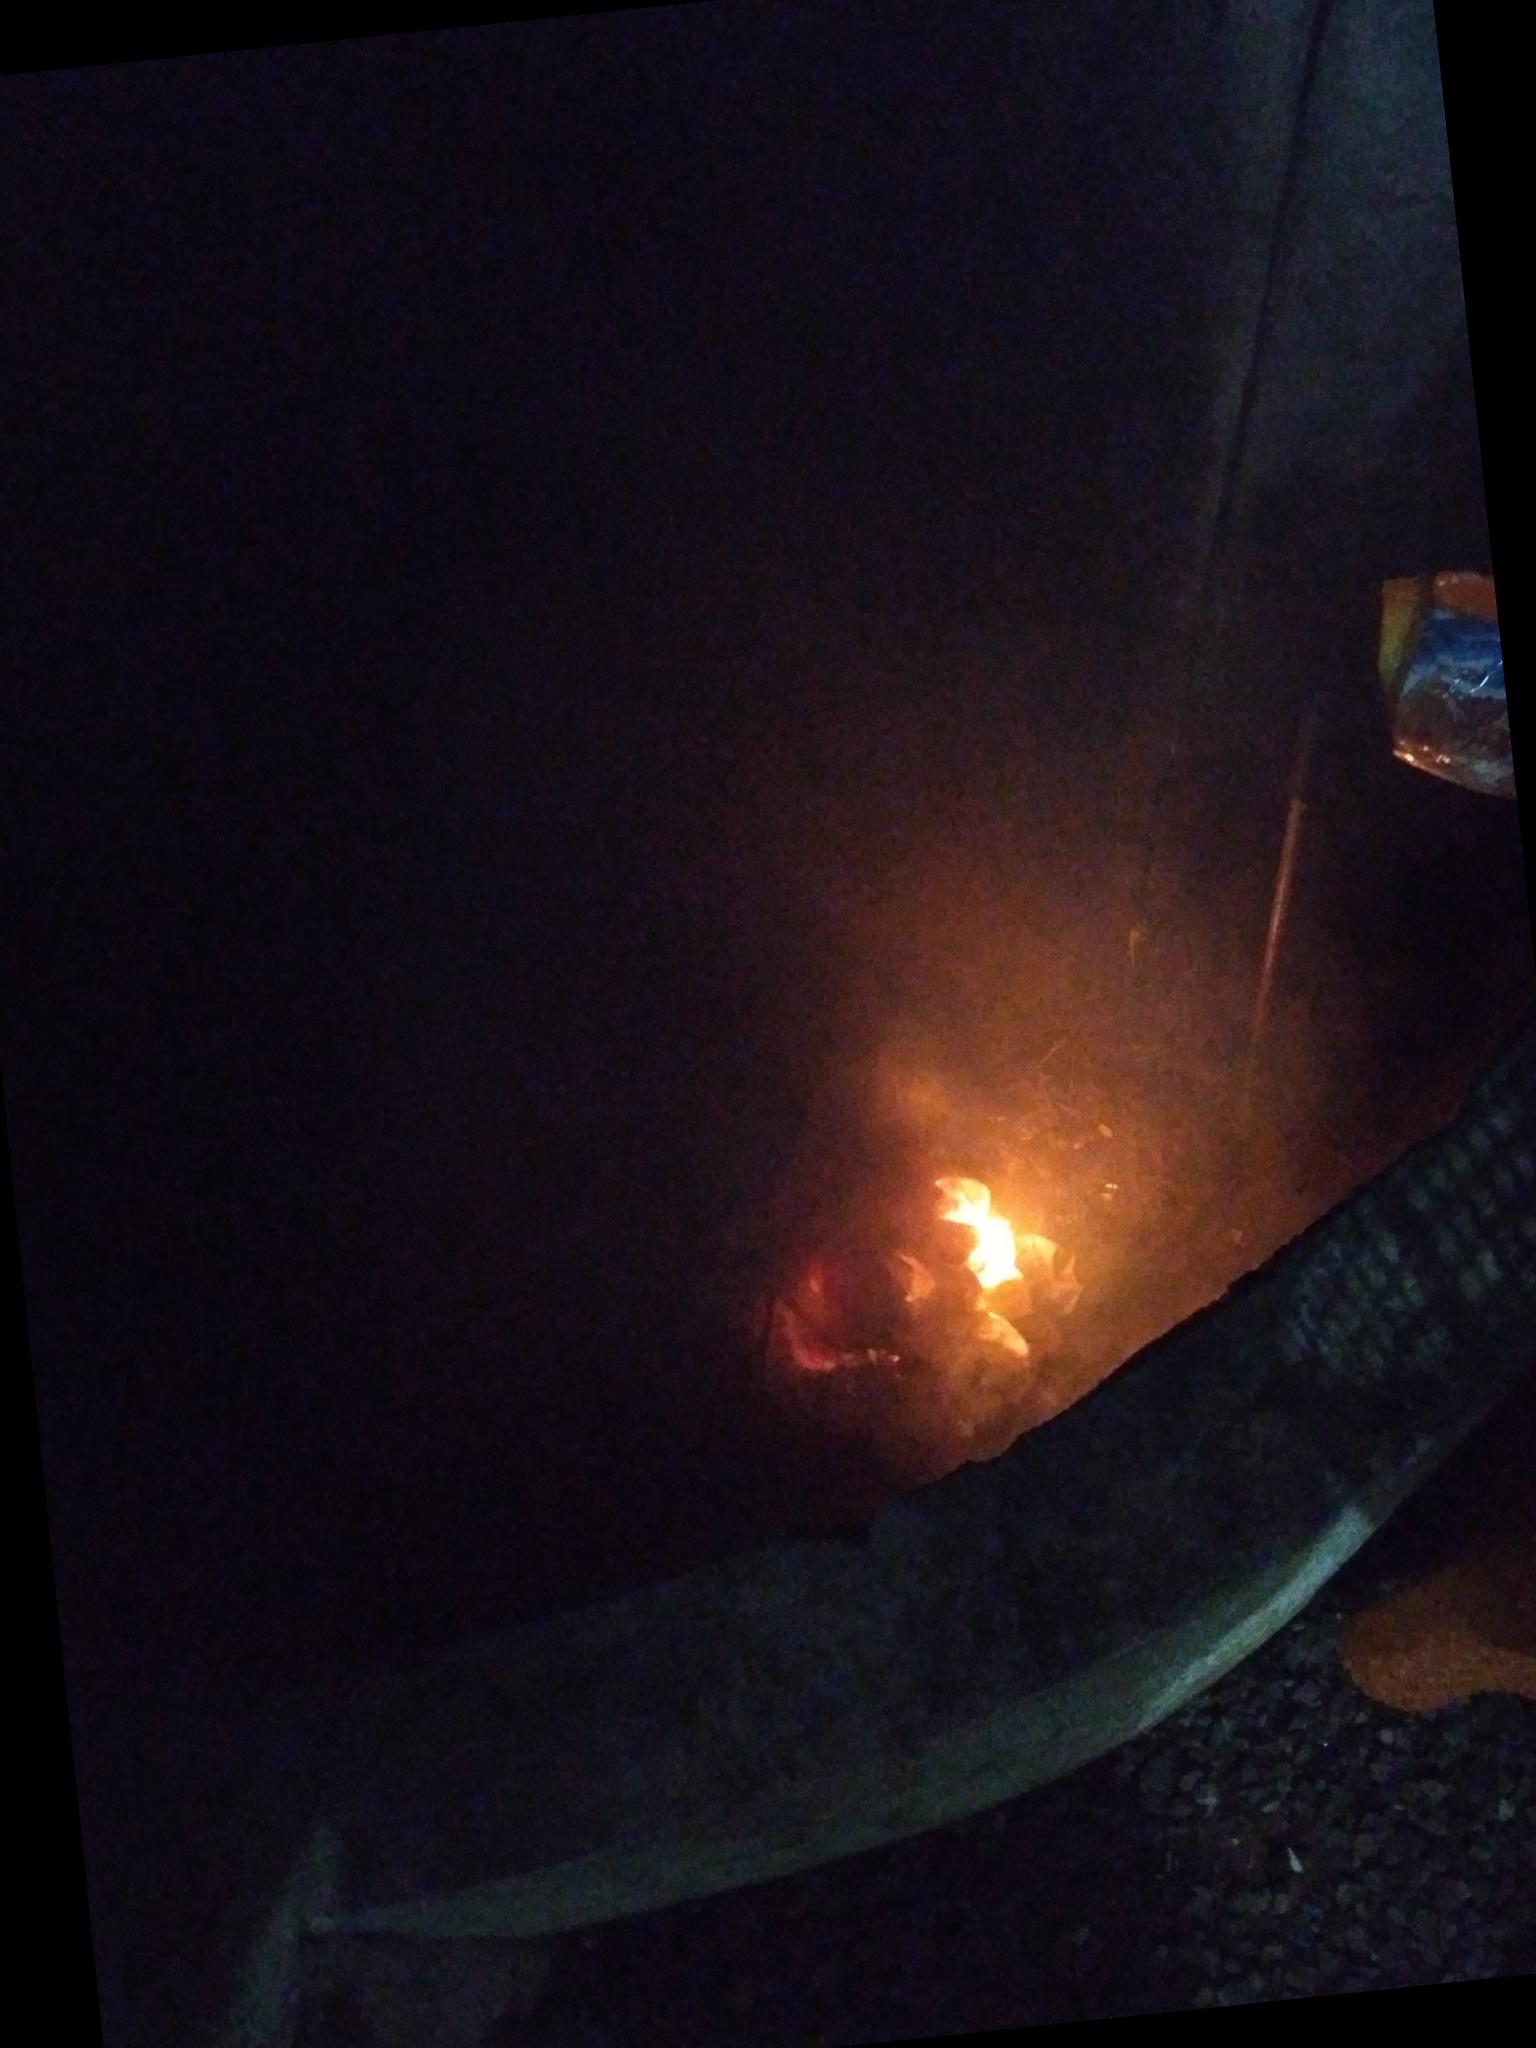Fire: (907, 1150, 1052, 1335)
